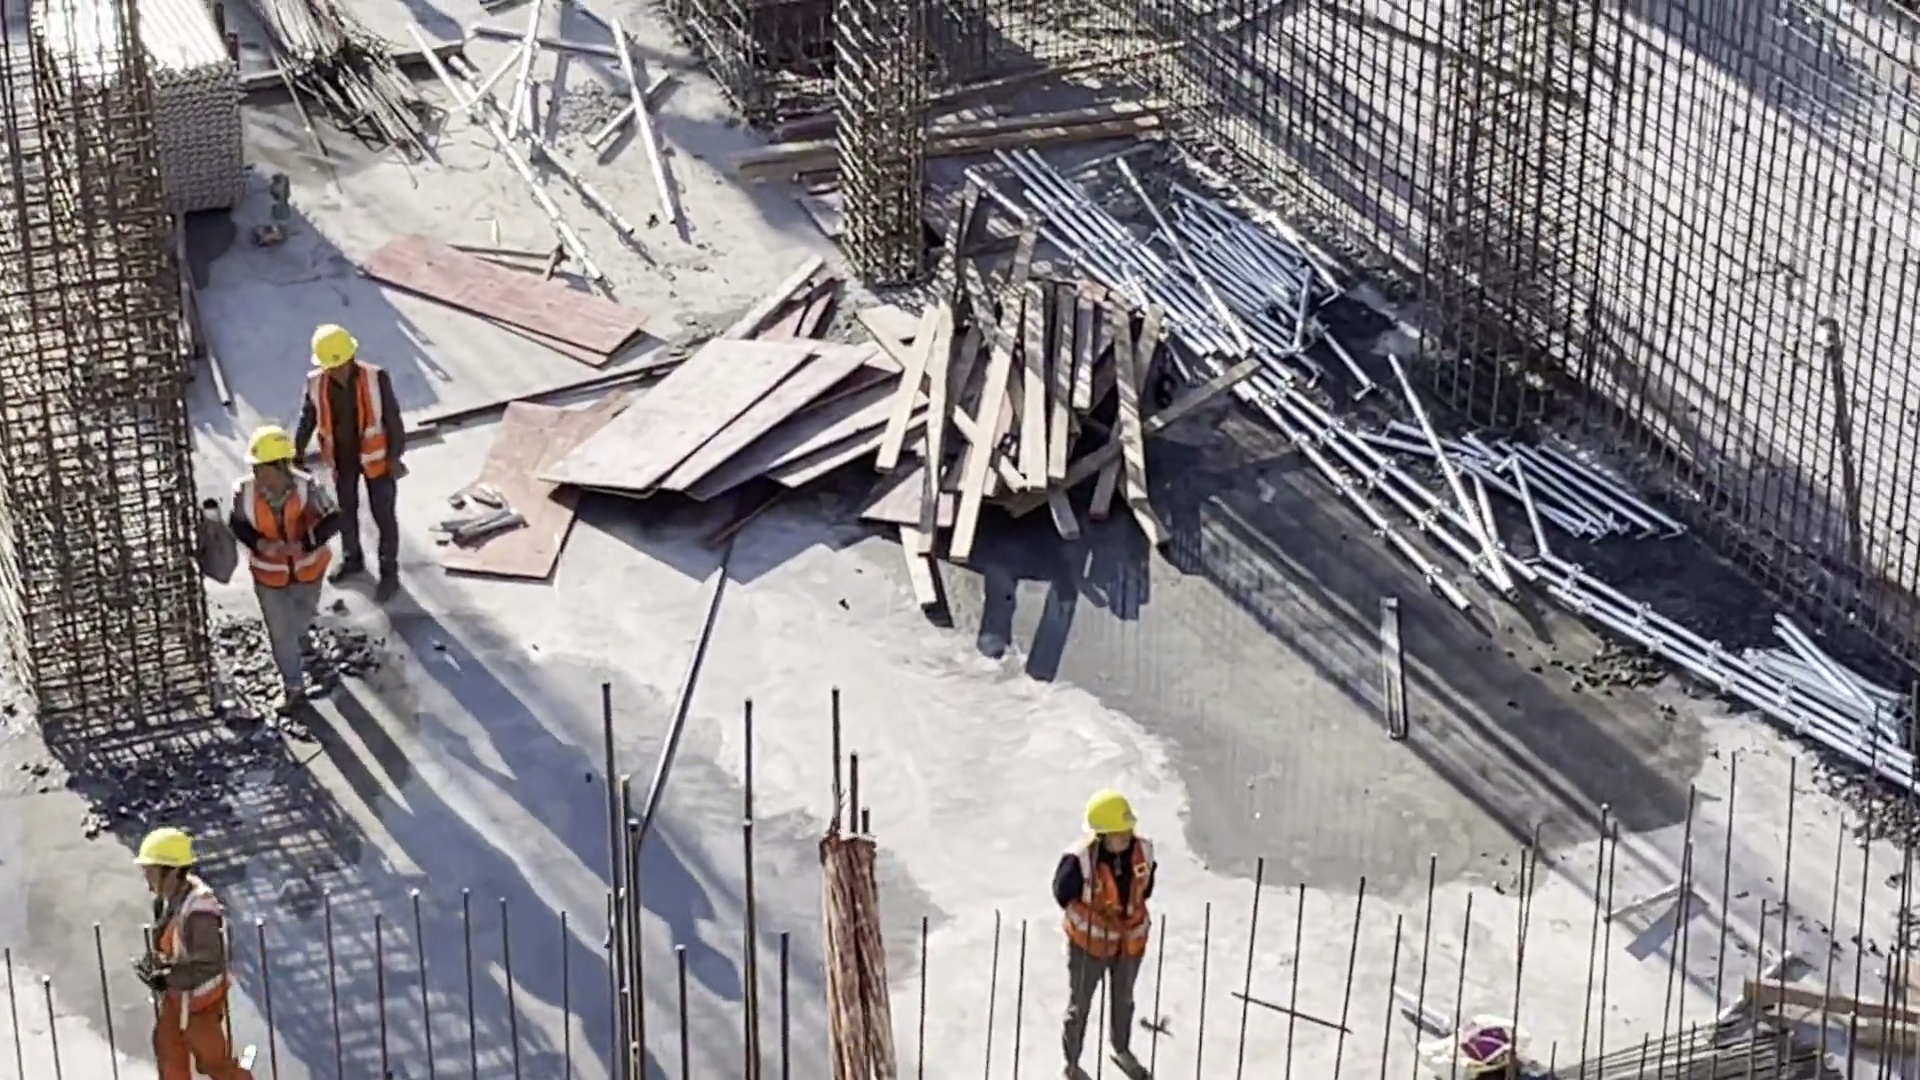board: (631, 340, 924, 546)
helmet: (298, 325, 365, 367), (131, 830, 186, 871), (1080, 795, 1135, 835), (253, 430, 298, 471)
person: (1043, 791, 1176, 1080), (288, 327, 417, 606), (117, 824, 257, 1080), (231, 424, 349, 724)
rebar: (269, 1, 434, 154), (1531, 1014, 1797, 1080)
scaffold: (1023, 155, 1309, 404), (65, 1, 249, 192)
vest: (140, 886, 220, 1002), (228, 490, 327, 572), (1071, 857, 1147, 956), (313, 385, 394, 472)
wood: (915, 324, 1222, 544)
